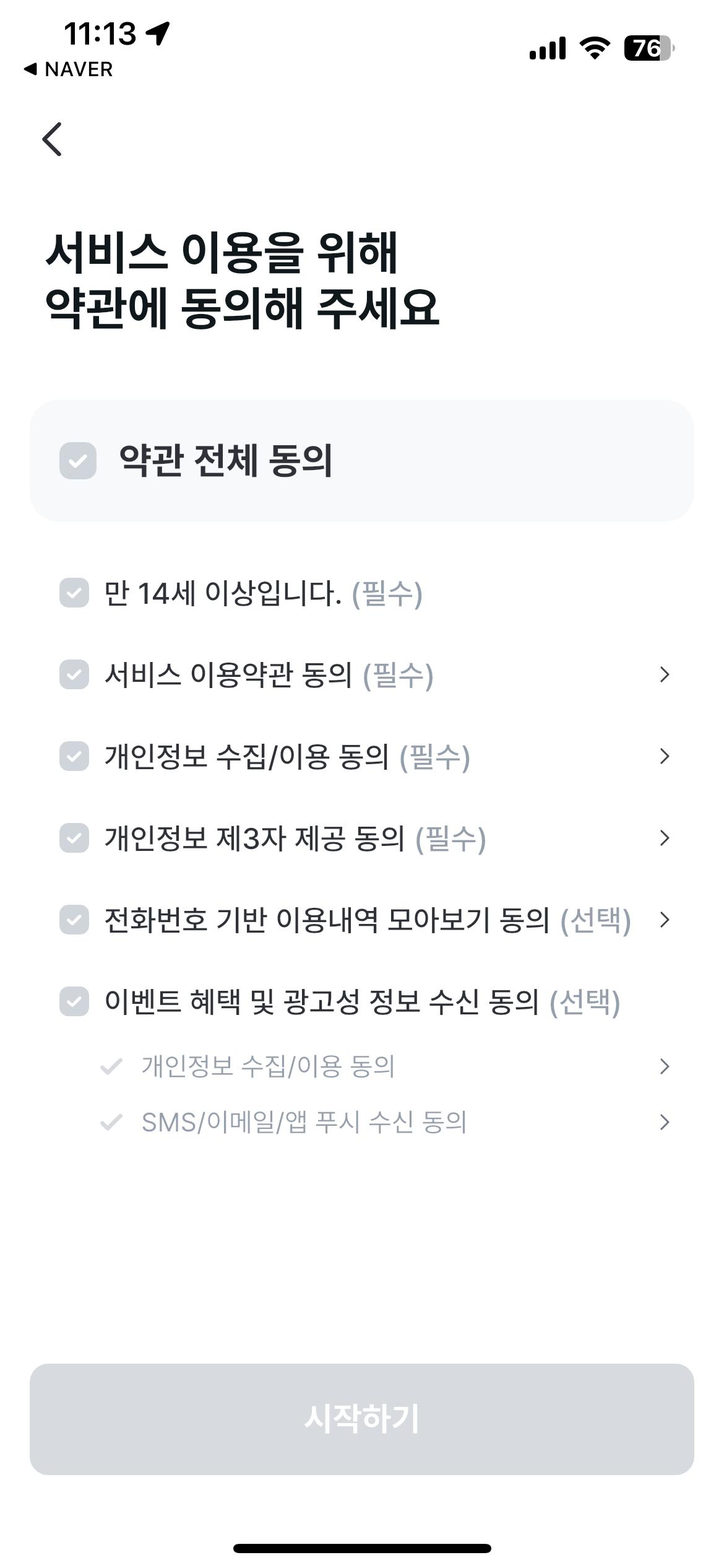button: (25, 1369, 707, 1476), (45, 118, 85, 184)
checkbox: (37, 398, 689, 516), (25, 722, 716, 805), (47, 636, 703, 712), (54, 809, 695, 881), (29, 555, 699, 623), (45, 896, 695, 966), (93, 1042, 693, 1109), (41, 978, 631, 1030), (103, 1108, 695, 1150)
